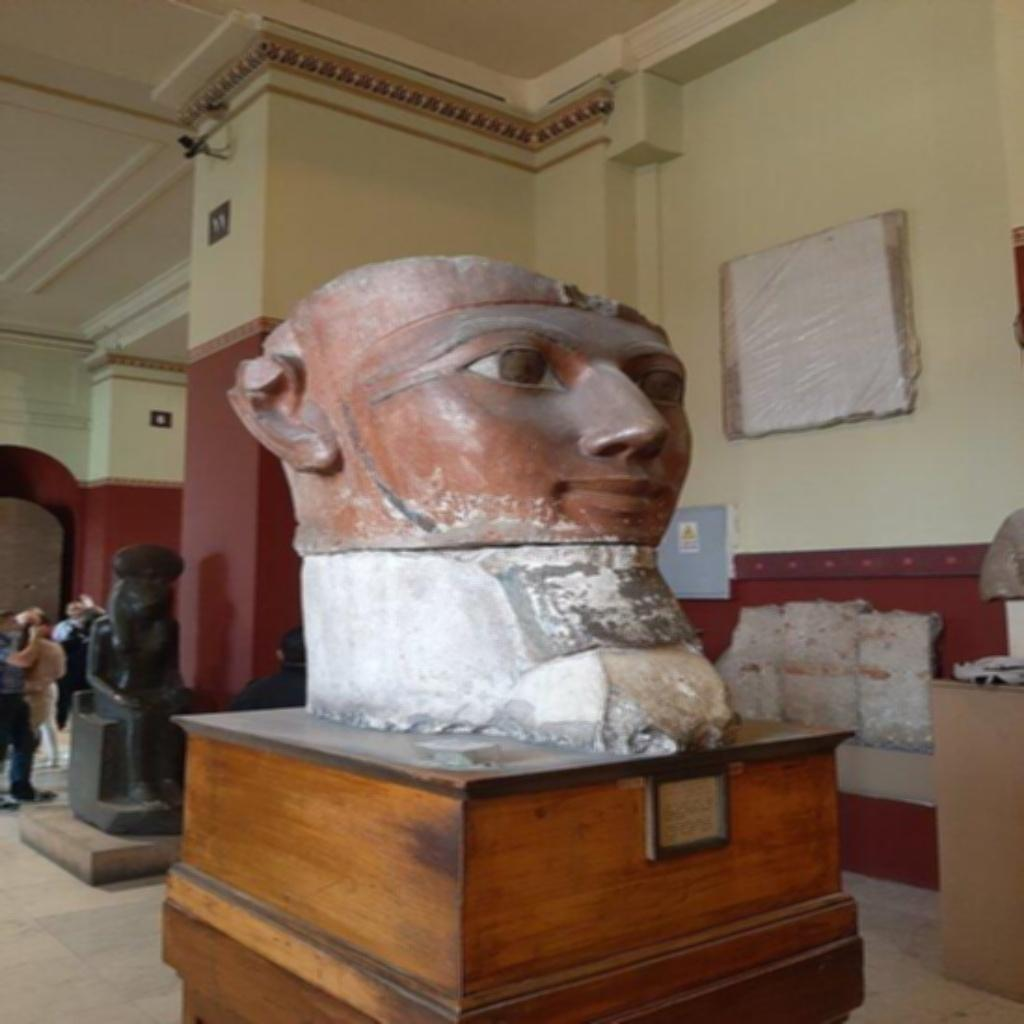Hatshepsut face: (224, 252, 742, 756)
